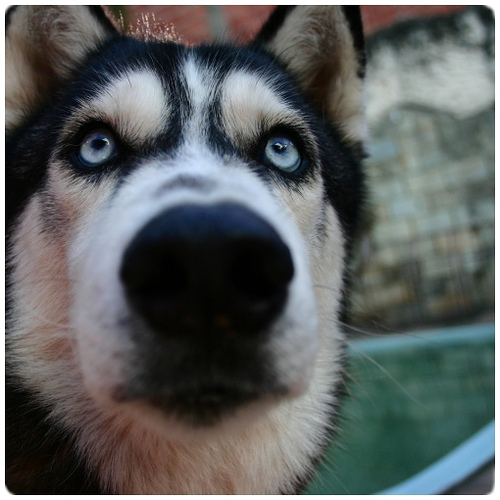dog: (3, 5, 368, 492)
